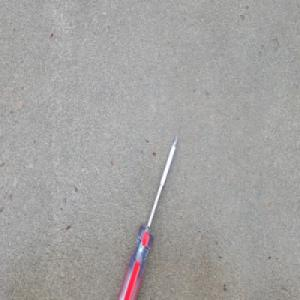Screwdriver: (114, 132, 179, 300)
